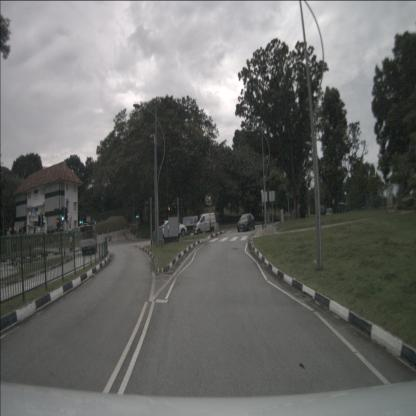vehicle-car: (158, 220, 188, 239), (193, 212, 216, 235), (237, 214, 255, 232), (325, 208, 333, 218)
vehicle-motorcycle: (69, 234, 73, 252)
vehicle-truck: (80, 224, 97, 256)
